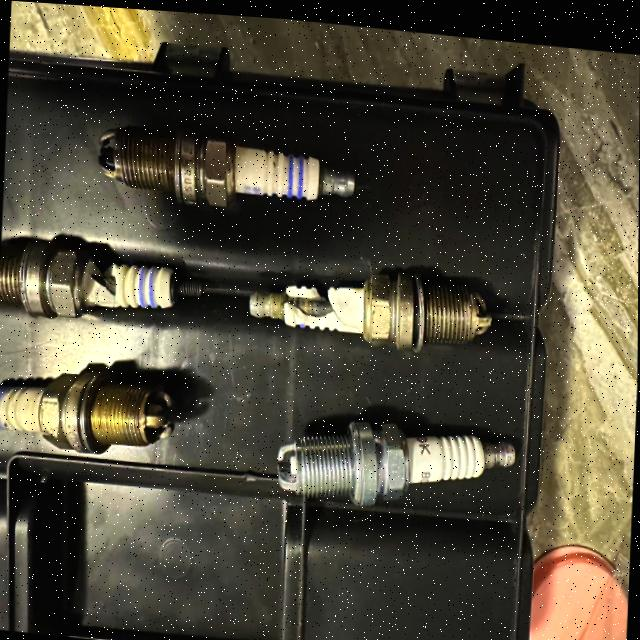damaged_spark-plug: (239, 255, 504, 360), (0, 244, 209, 328)
spark-plug: (263, 395, 518, 547), (95, 117, 365, 218), (0, 355, 186, 475)
